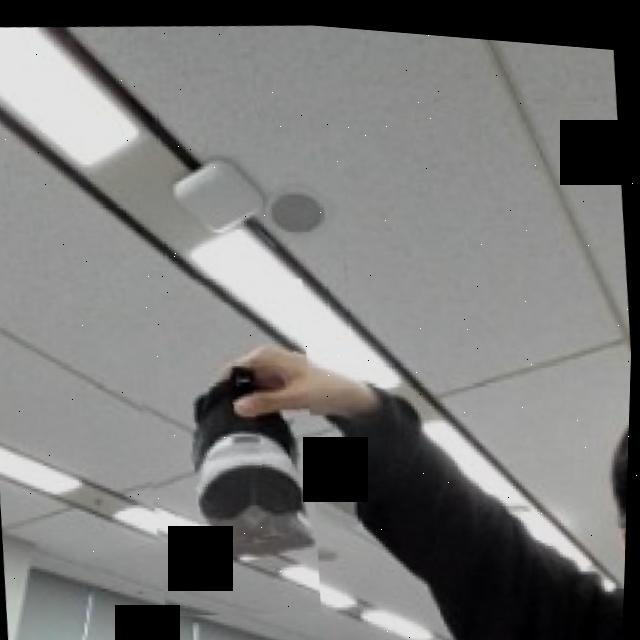shoe: (120, 261, 333, 624)
